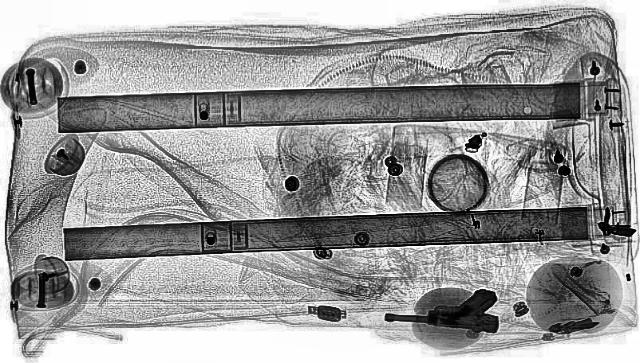Gun: (380, 281, 508, 333)
